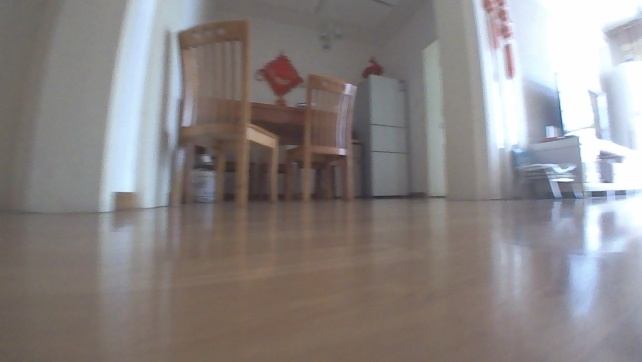dining_table: (166, 16, 359, 205)
refrigerator: (360, 72, 413, 198)
